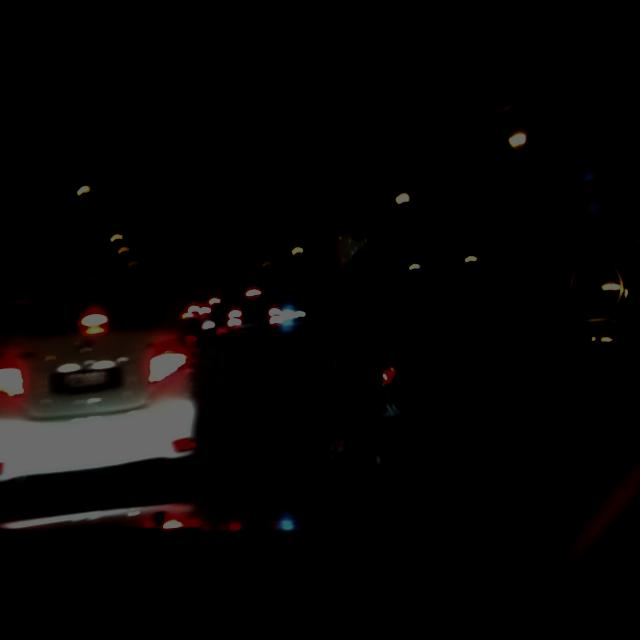Motorbike: (308, 327, 428, 517)
